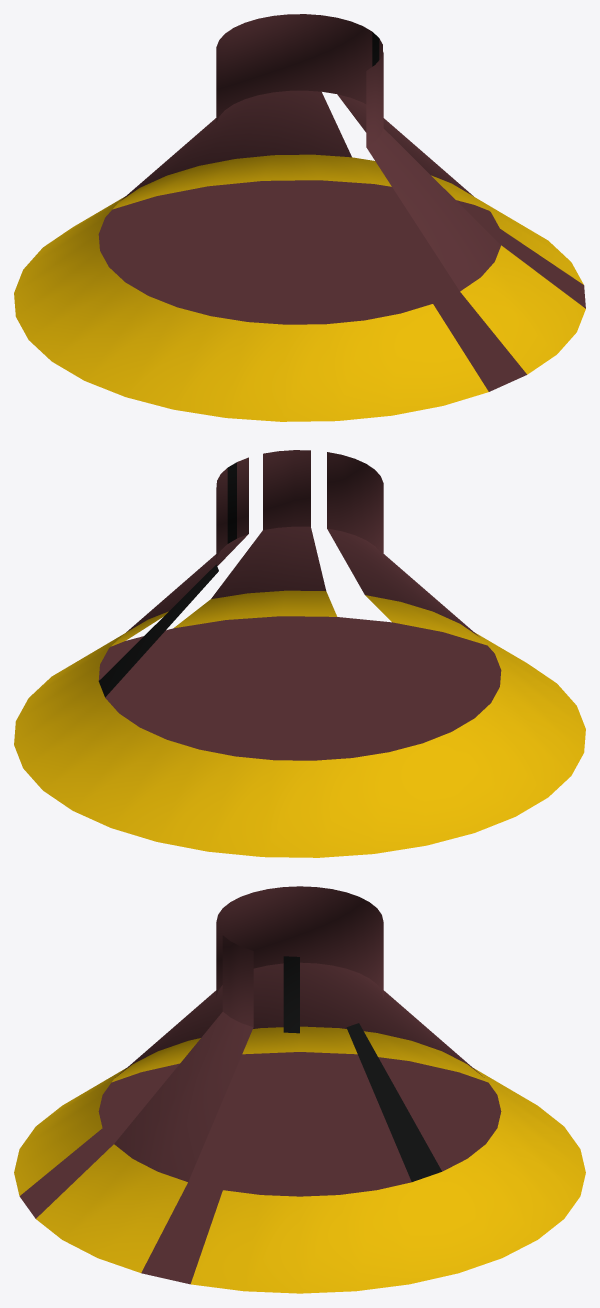
The model's file is ColonyHouse6.fbx.
The picture shows the model from 3 angles, top to bottom: view 1: azimuth 30°, elevation 25°; view 2: azimuth 150°, elevation 25°; view 3: azimuth 270°, elevation 25°; orthographic projection.
Visible parts, largest first — view 1: Cone.005; view 2: Cone.005; view 3: Cone.005.
Part boxes in pixels (x1,y1,x2,y2): Cone.005: (14, 14, 585, 421); Cone.005: (14, 450, 585, 857); Cone.005: (14, 886, 585, 1293).
Bounding box in the file's own units: 200 × 96.88 × 200.
